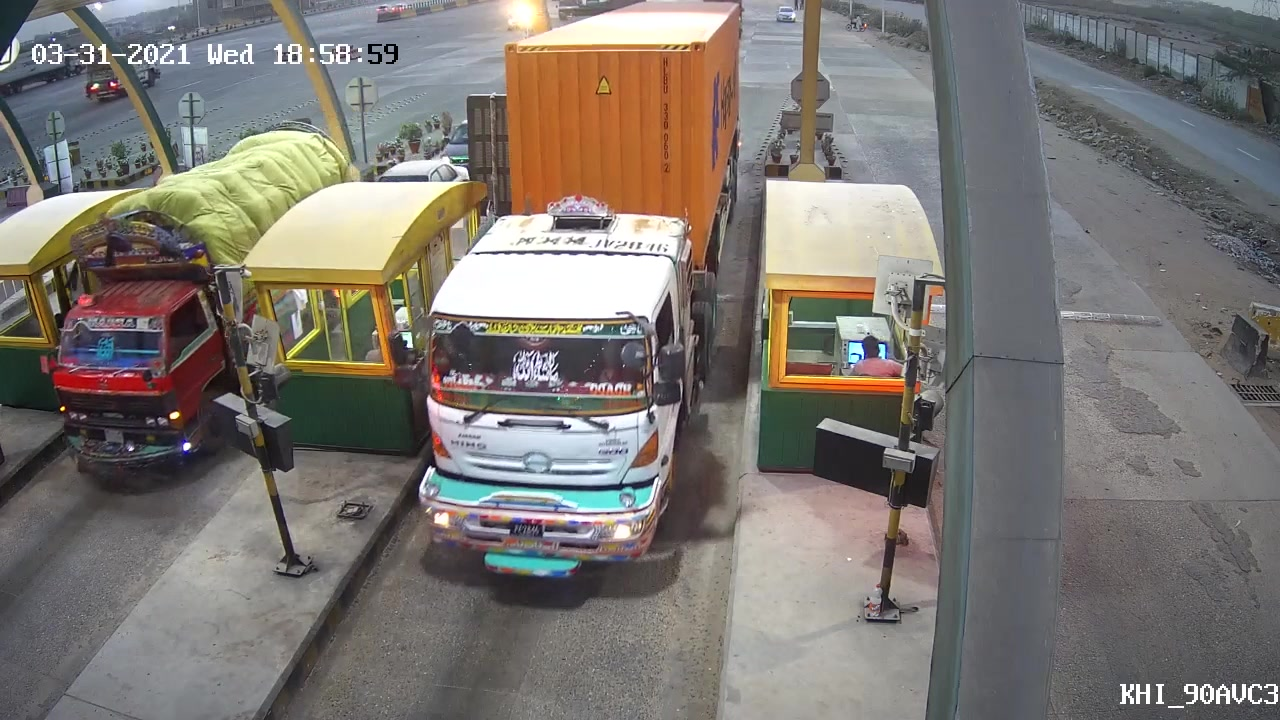F6: (393, 1, 756, 588)
